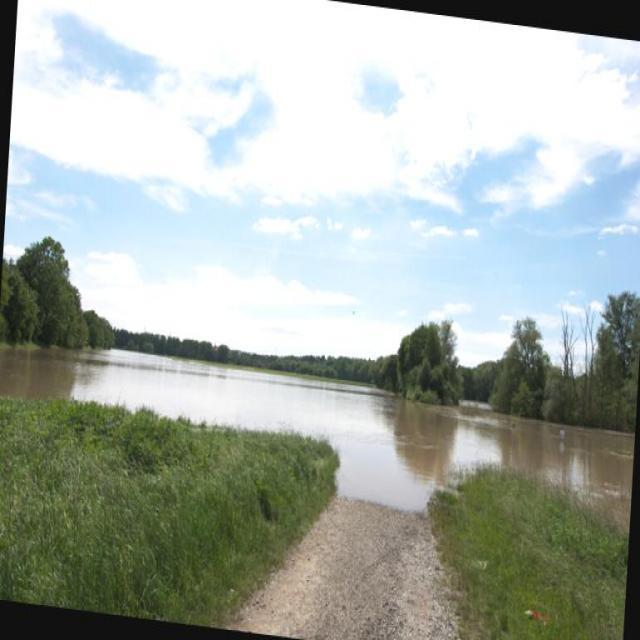flood: (0, 301, 638, 546)
